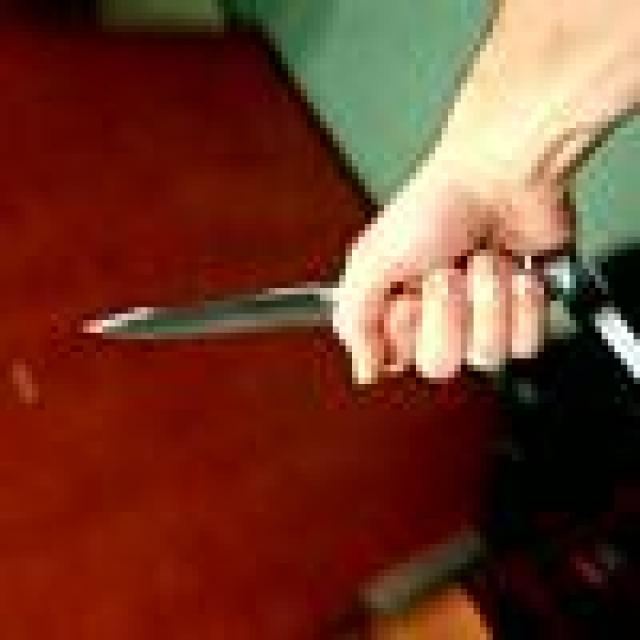weapon: (57, 224, 640, 403)
